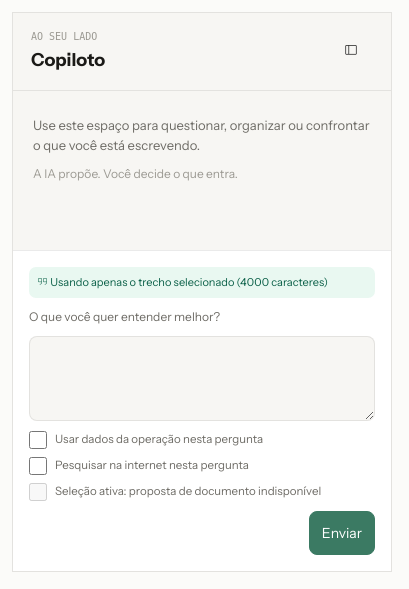
Test: StudioCopilot › requires explicit research consent on every turn and sends only bounded selected text
Click the checkbox labelled "Pesquisar na internet nesta pergunta": (38, 466) [29,457,47,475]
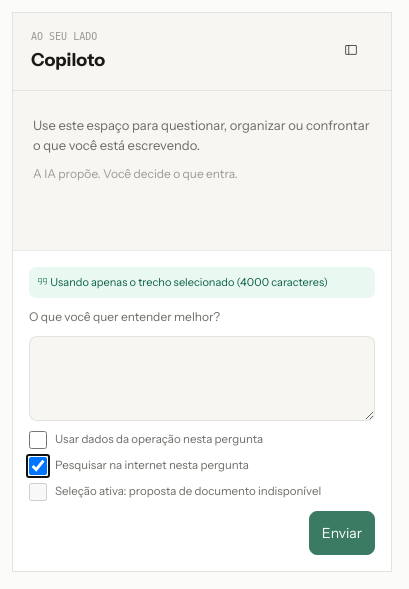
In the text box labelled "O que você quer entender melhor?": (202, 378) [29,336,375,421], type "Compare este trecho"
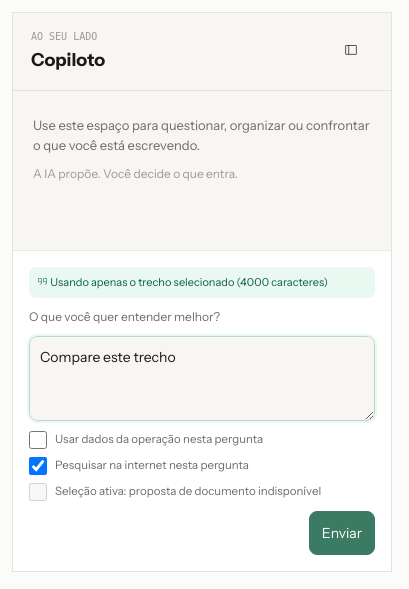
Click the button "Enviar": (342, 533) [309,511,375,555]
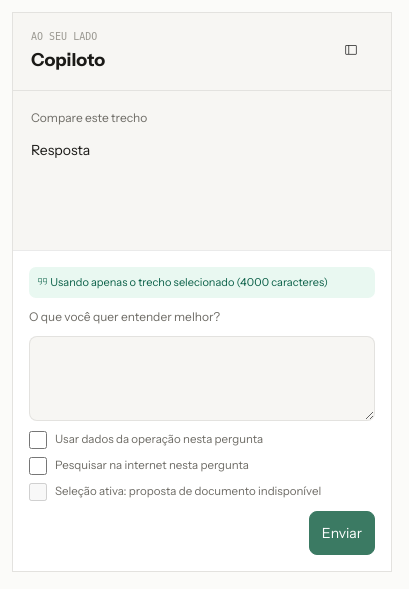
Check: the checkbox labelled "Pesquisar na internet nesta pergunta" is not checked, box [29,457,47,475]
Check: the text "Resposta" is shown, box [31,141,90,159]
